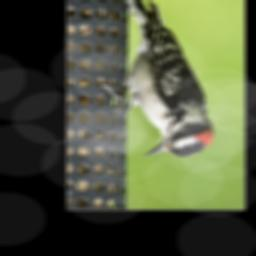Woodpecker: (104, 0, 213, 161)
